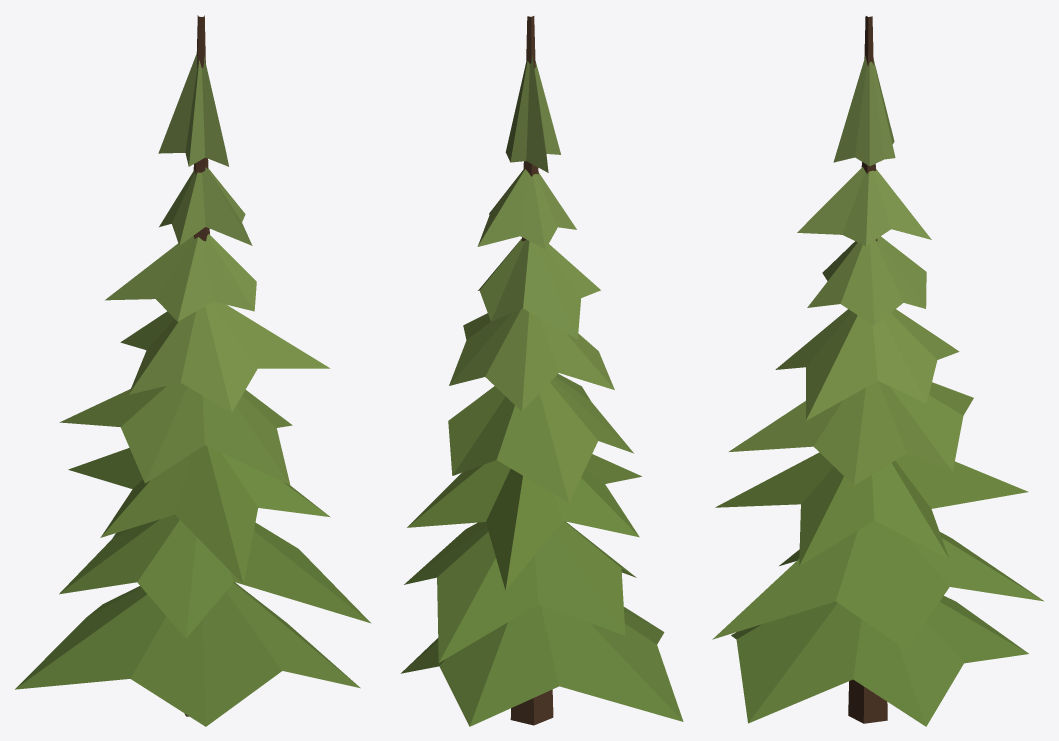
Rendered from larch.glb.
3 renders of one model, left to right at view 1: azimuth 30°, elevation 25°; view 2: azimuth 150°, elevation 25°; view 3: azimuth 270°, elevation 25°, orthographic.
Parts seen in each view (by area): view 1: larch; view 2: larch; view 3: larch.
Boxes of the visible parts, left/top/right/bottom form: larch: left=15, top=15, right=371, bottom=726; larch: left=401, top=16, right=683, bottom=726; larch: left=712, top=16, right=1043, bottom=726.
Bounding box in the file's own units: 4.34 × 10.4 × 4.48.
